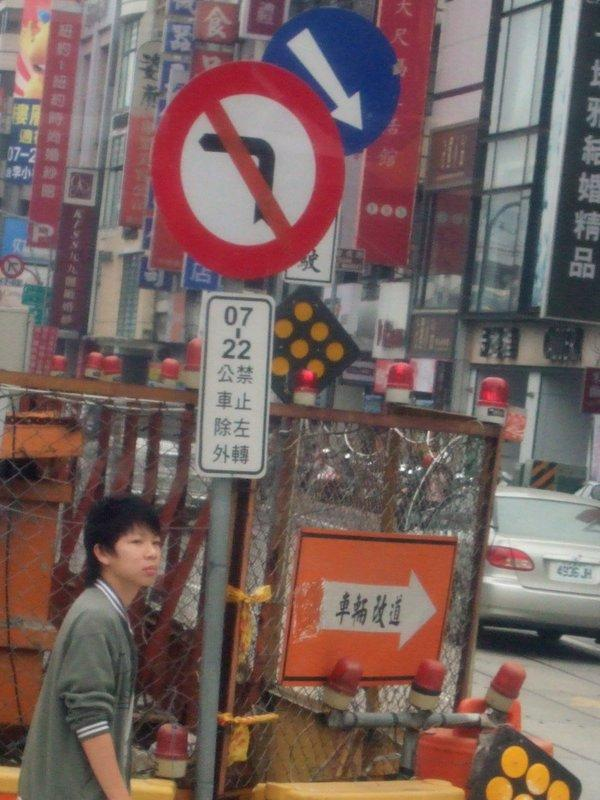no_left_turn: (147, 59, 345, 278)
